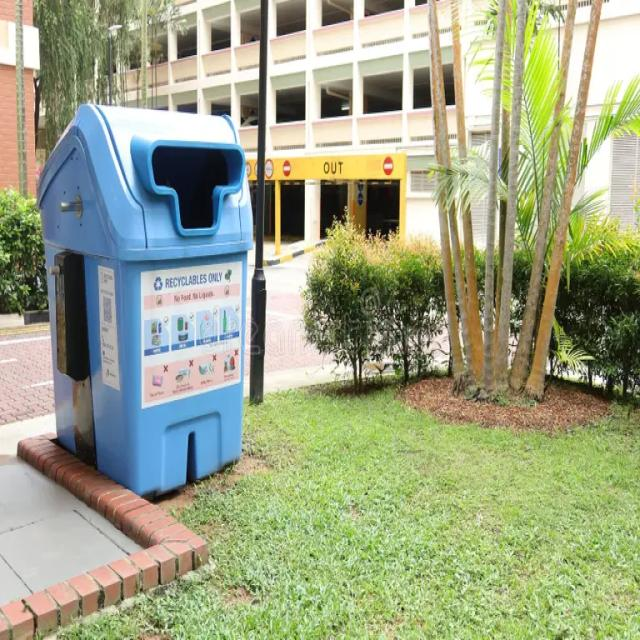bin_empty: (38, 101, 252, 495)
